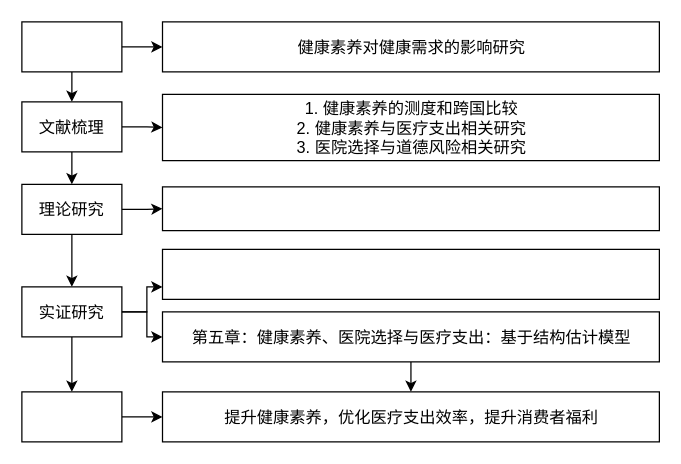
Image size: 681x464. Some labels were removed from this diagram. Each missing label, with the centre of its shape:
"研究问题" goes at point (71, 46).
"第三章：健康素养的动态人力资本理论模型" goes at point (410, 208).
"第四章：健康素养对医疗支出的非线性影响：新闻IV和双重机器学习" goes at point (410, 273).
"结论与政策建议" goes at point (71, 416).
